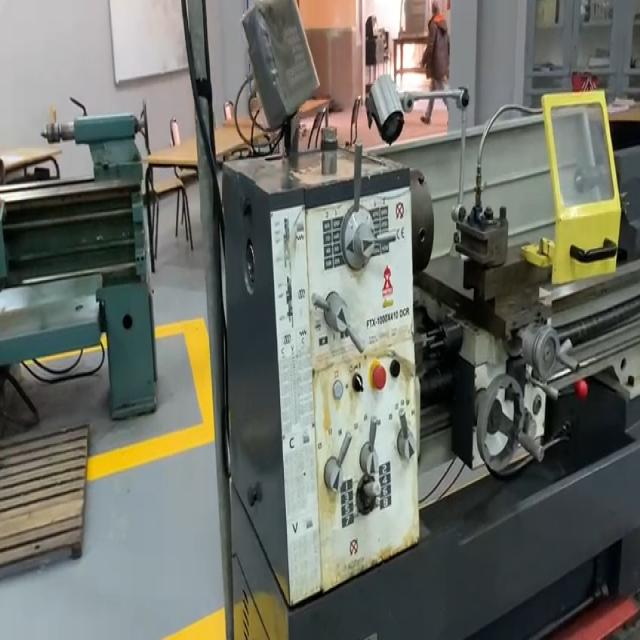tour parallele: (219, 0, 640, 640)
